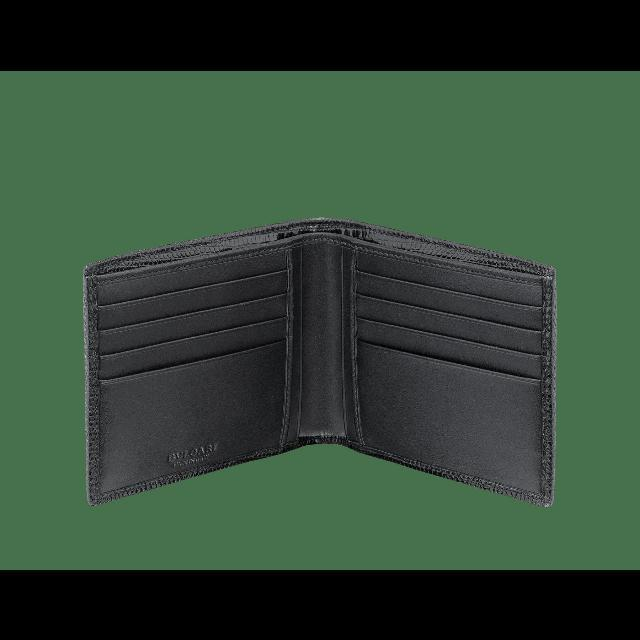wallet: (79, 217, 557, 507)
